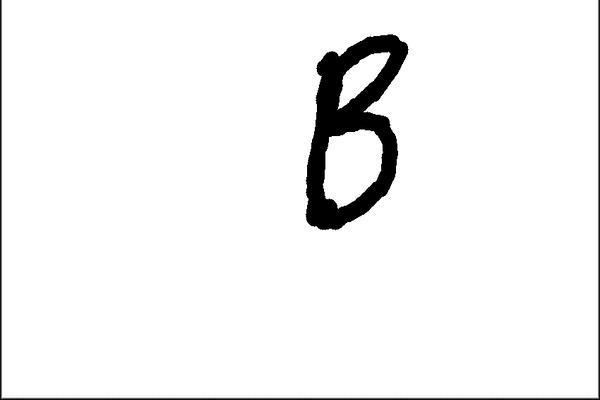B: (294, 29, 417, 233)
